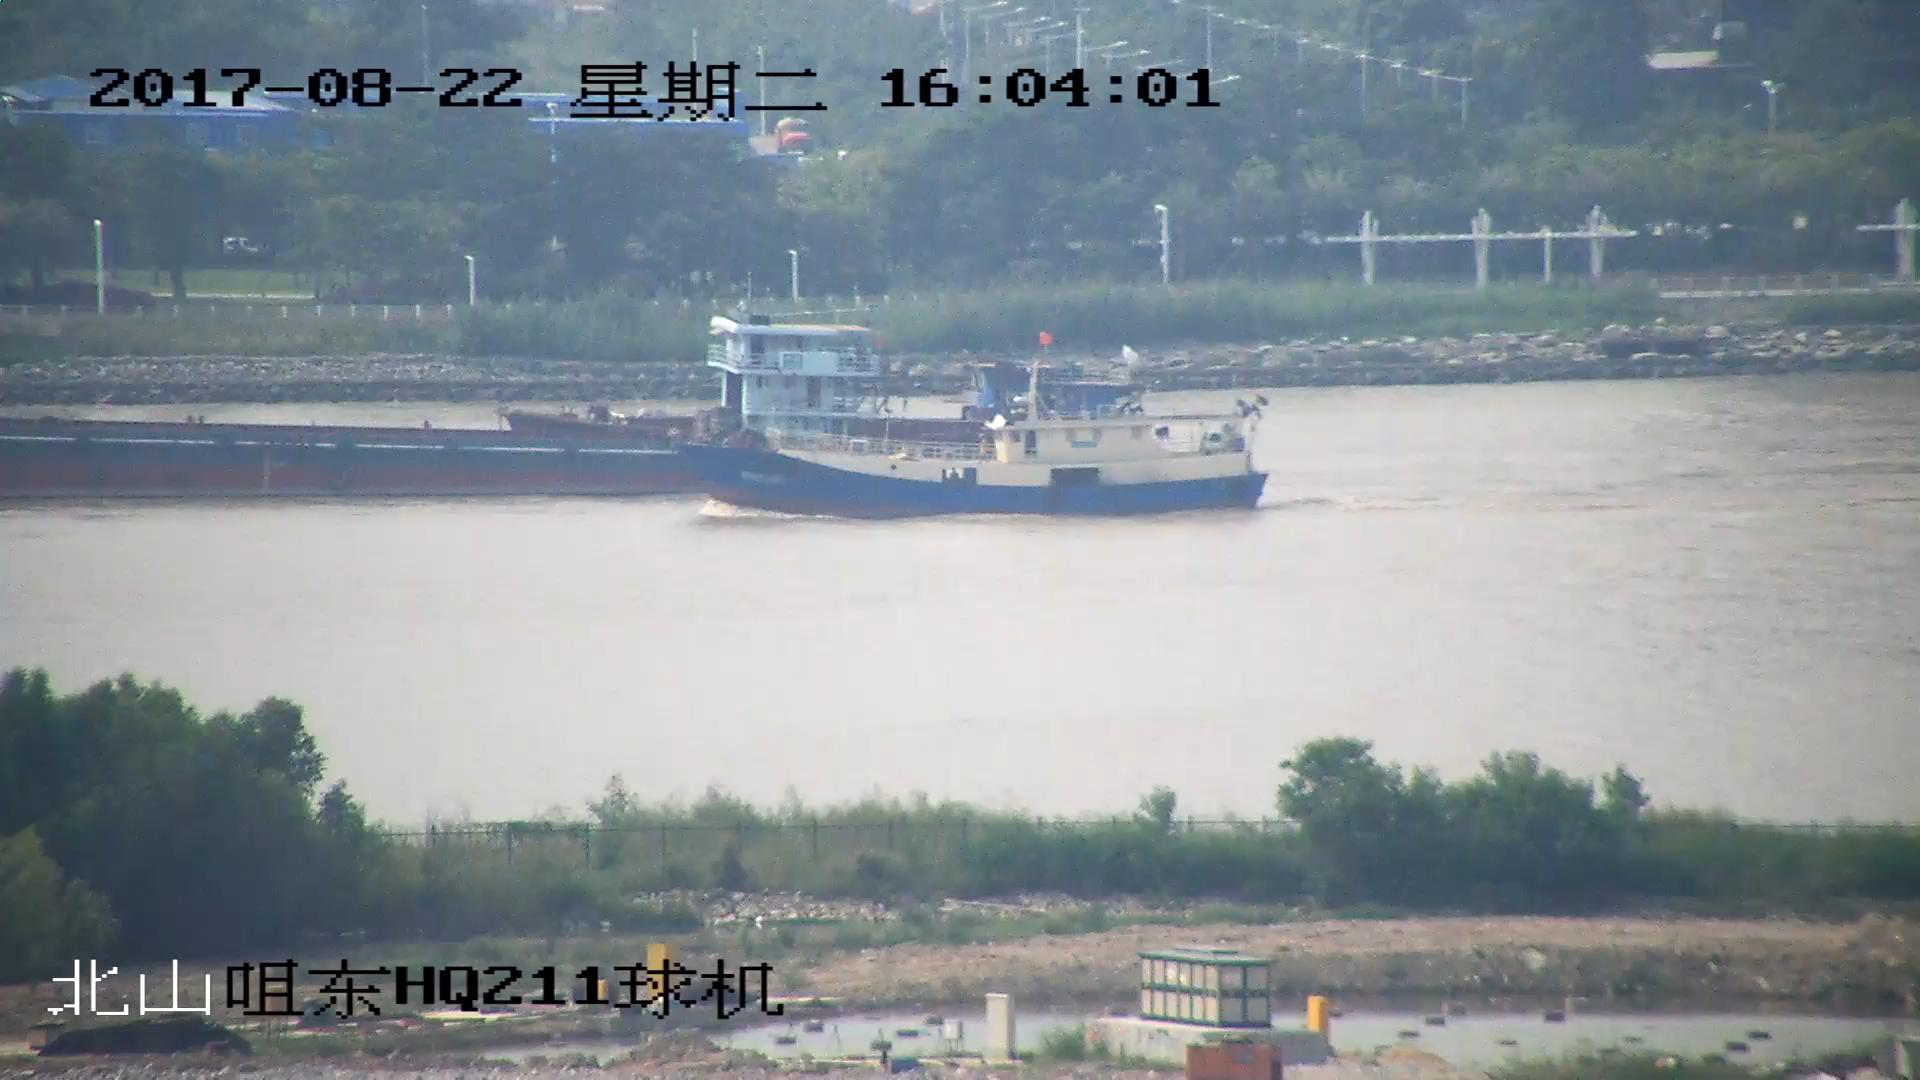bulk cargo carrier: (1, 313, 902, 495)
fishing boat: (689, 339, 1268, 522)
